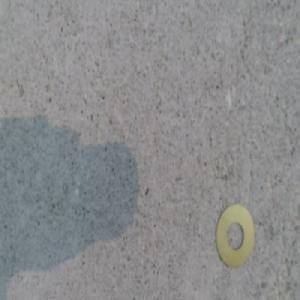Washer: (213, 203, 252, 268)
